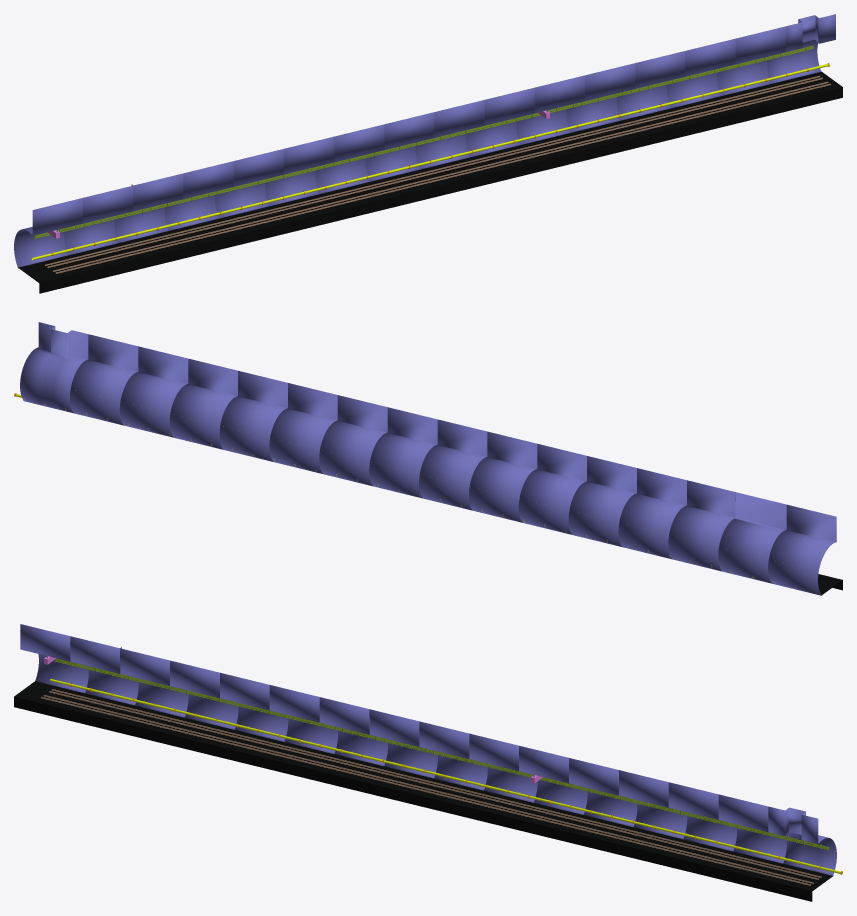
The model's file is Tunnel.fbx.
3 renders of one model, top to bottom at view 1: azimuth 30°, elevation 25°; view 2: azimuth 150°, elevation 25°; view 3: azimuth 330°, elevation 25°, orthographic.
Visible parts, largest first — view 1: Tunel, Piso, Rieles, Cables, Tuberias; view 2: Tunel, Piso; view 3: Tunel, Piso, Rieles, Cables, Tuberias.
Boxes of the visible parts, bbox=[...] form: Tunel: bbox=[14, 14, 835, 268]; Piso: bbox=[18, 71, 842, 293]; Rieles: bbox=[45, 75, 830, 273]; Cables: bbox=[33, 45, 813, 239]; Tuberias: bbox=[31, 63, 829, 260]; Tunel: bbox=[20, 322, 836, 595]; Piso: bbox=[23, 400, 842, 595]; Tunel: bbox=[20, 624, 836, 875]; Piso: bbox=[14, 681, 833, 901]; Rieles: bbox=[41, 689, 821, 885]; Cables: bbox=[55, 658, 829, 850]; Tuberias: bbox=[50, 679, 842, 874].
Bounding box in the file's own units: 3232 × 303 × 174.
